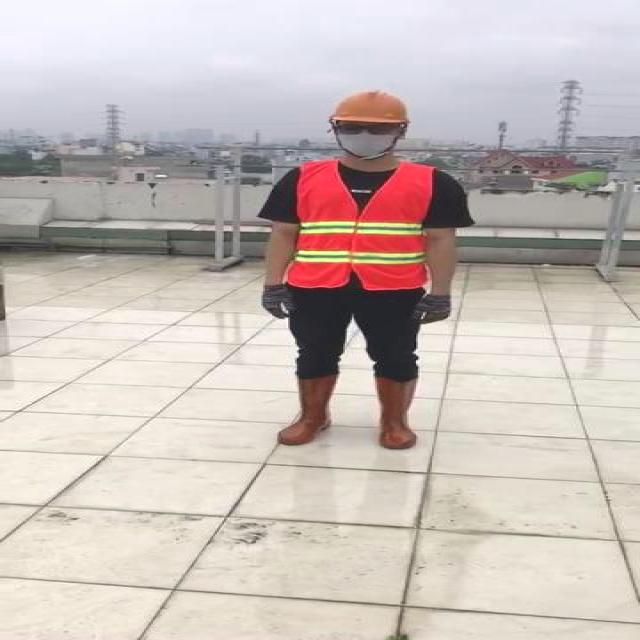boots: (276, 376, 342, 446), (375, 378, 421, 451)
face_mask: (333, 120, 401, 158)
glasses: (331, 121, 400, 137)
hand_glove: (414, 295, 459, 327), (267, 284, 288, 320)
head_helmet: (329, 89, 412, 125)
person: (258, 84, 468, 448)
vest: (286, 164, 436, 290)
